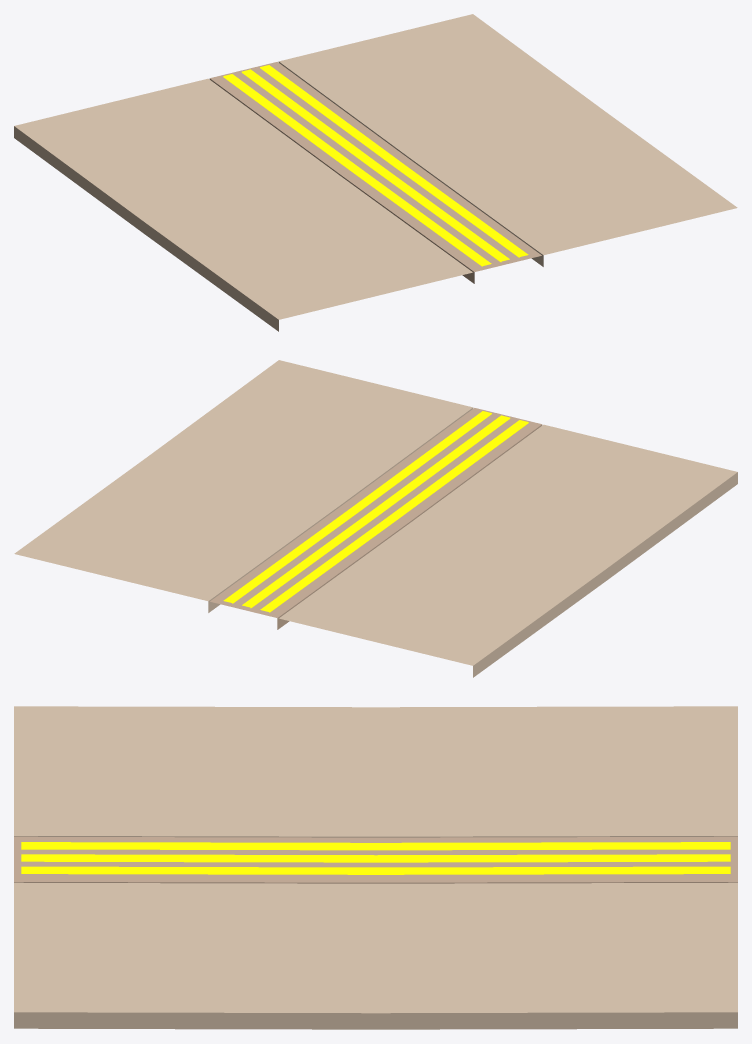
File: ext_paving_plaza_04.glb
3 renders of one model, top to bottom at view 1: azimuth 30°, elevation 25°; view 2: azimuth 150°, elevation 25°; view 3: azimuth 270°, elevation 25°, orthographic. The views are drawn at different scales.
Visible parts, largest first — view 1: Pavers, Guide_Strip, Tactile_Bars; view 2: Pavers, Guide_Strip, Tactile_Bars; view 3: Pavers, Guide_Strip, Tactile_Bars.
Part boxes in pixels (x1,y1,x2,y2): Pavers: (14, 14, 737, 331); Guide_Strip: (209, 62, 541, 283); Tactile_Bars: (223, 65, 528, 266); Pavers: (14, 360, 737, 677); Guide_Strip: (210, 408, 542, 629); Tactile_Bars: (223, 411, 528, 612); Pavers: (14, 706, 737, 1029); Guide_Strip: (14, 836, 737, 883); Tactile_Bars: (21, 842, 730, 874).
Bounding box in the file's own units: 1.99 × 0.0586 × 1.99.
